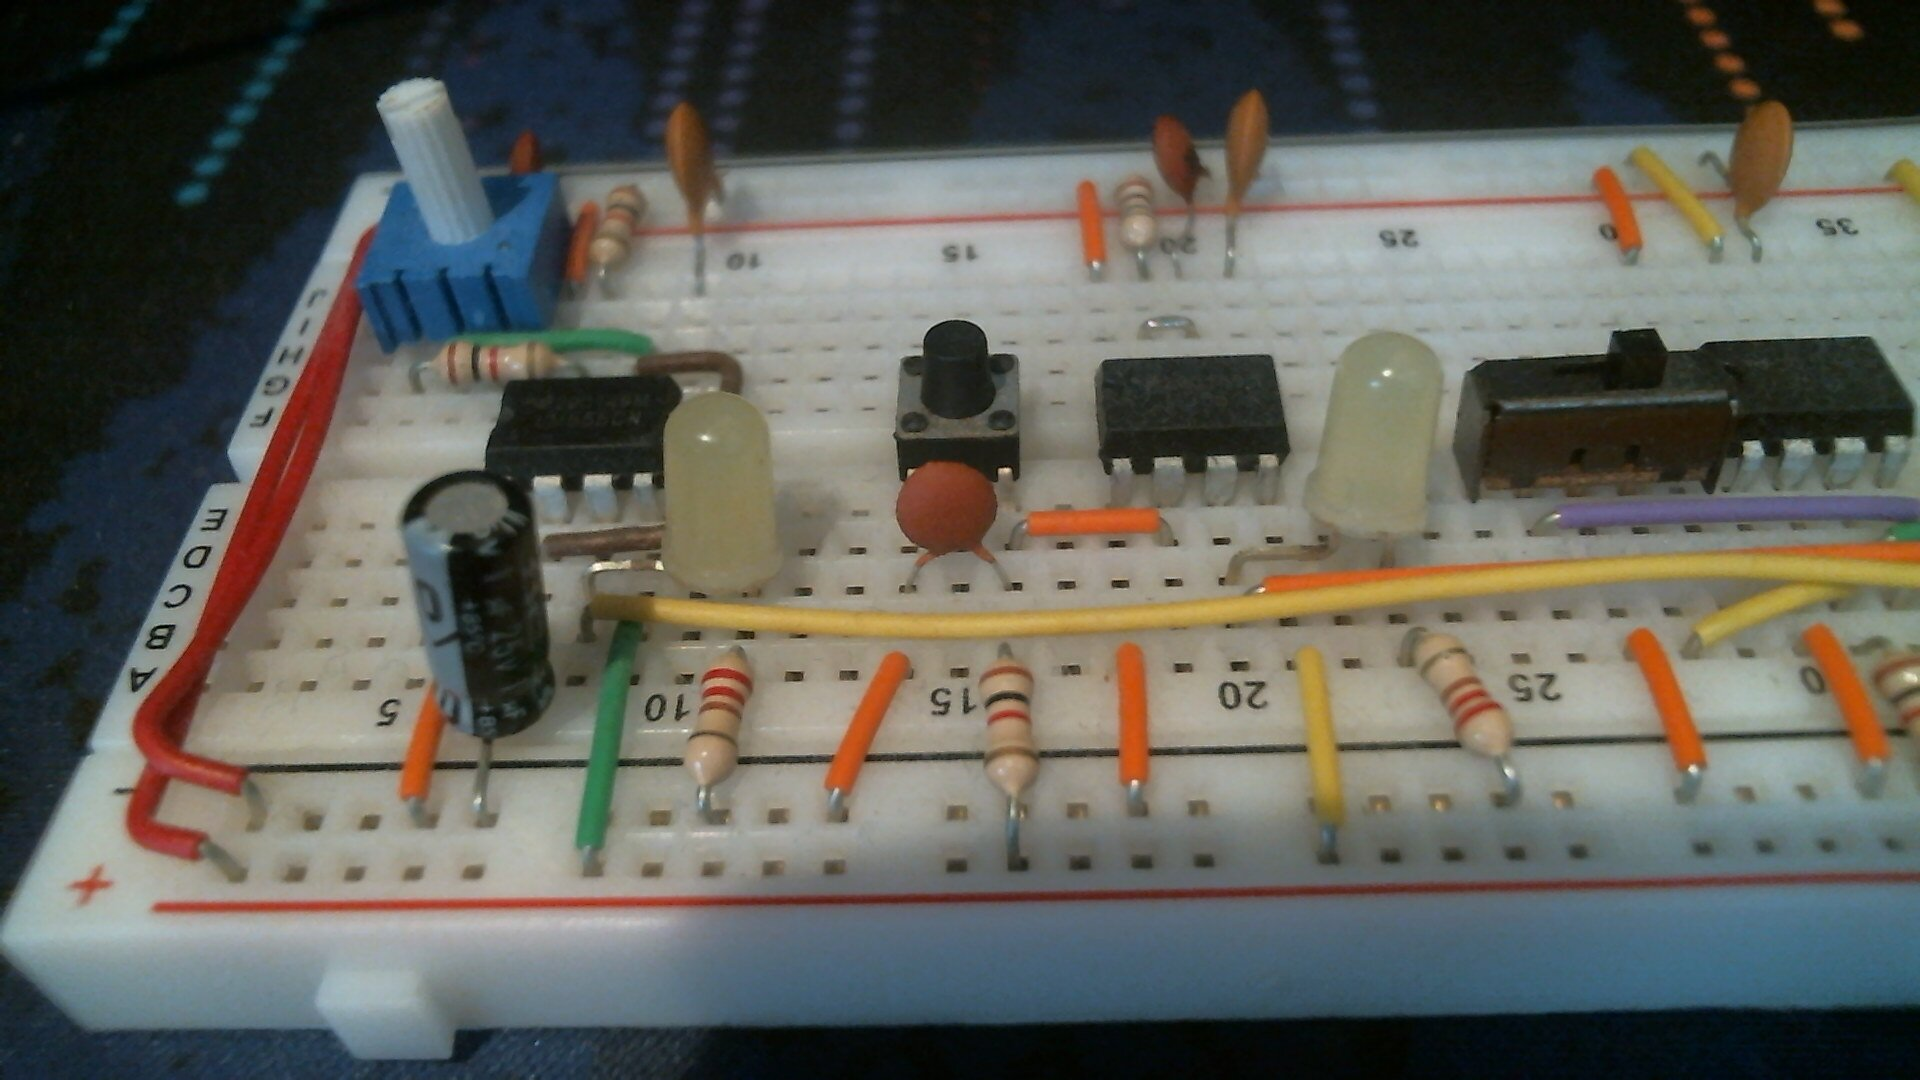IC: (1700, 335, 1920, 488), (1093, 353, 1295, 500)
LED: (1300, 327, 1451, 558), (657, 389, 786, 596)
ceramic_capacitor: (894, 458, 1004, 576), (663, 98, 732, 253), (1724, 98, 1797, 223), (1220, 84, 1273, 220), (1147, 111, 1209, 208)
electrolytic_capacitor: (400, 469, 559, 741)
resistor: (1402, 625, 1518, 764), (972, 641, 1044, 824), (682, 645, 756, 822), (587, 182, 649, 280), (429, 340, 564, 378), (1112, 171, 1160, 268)
